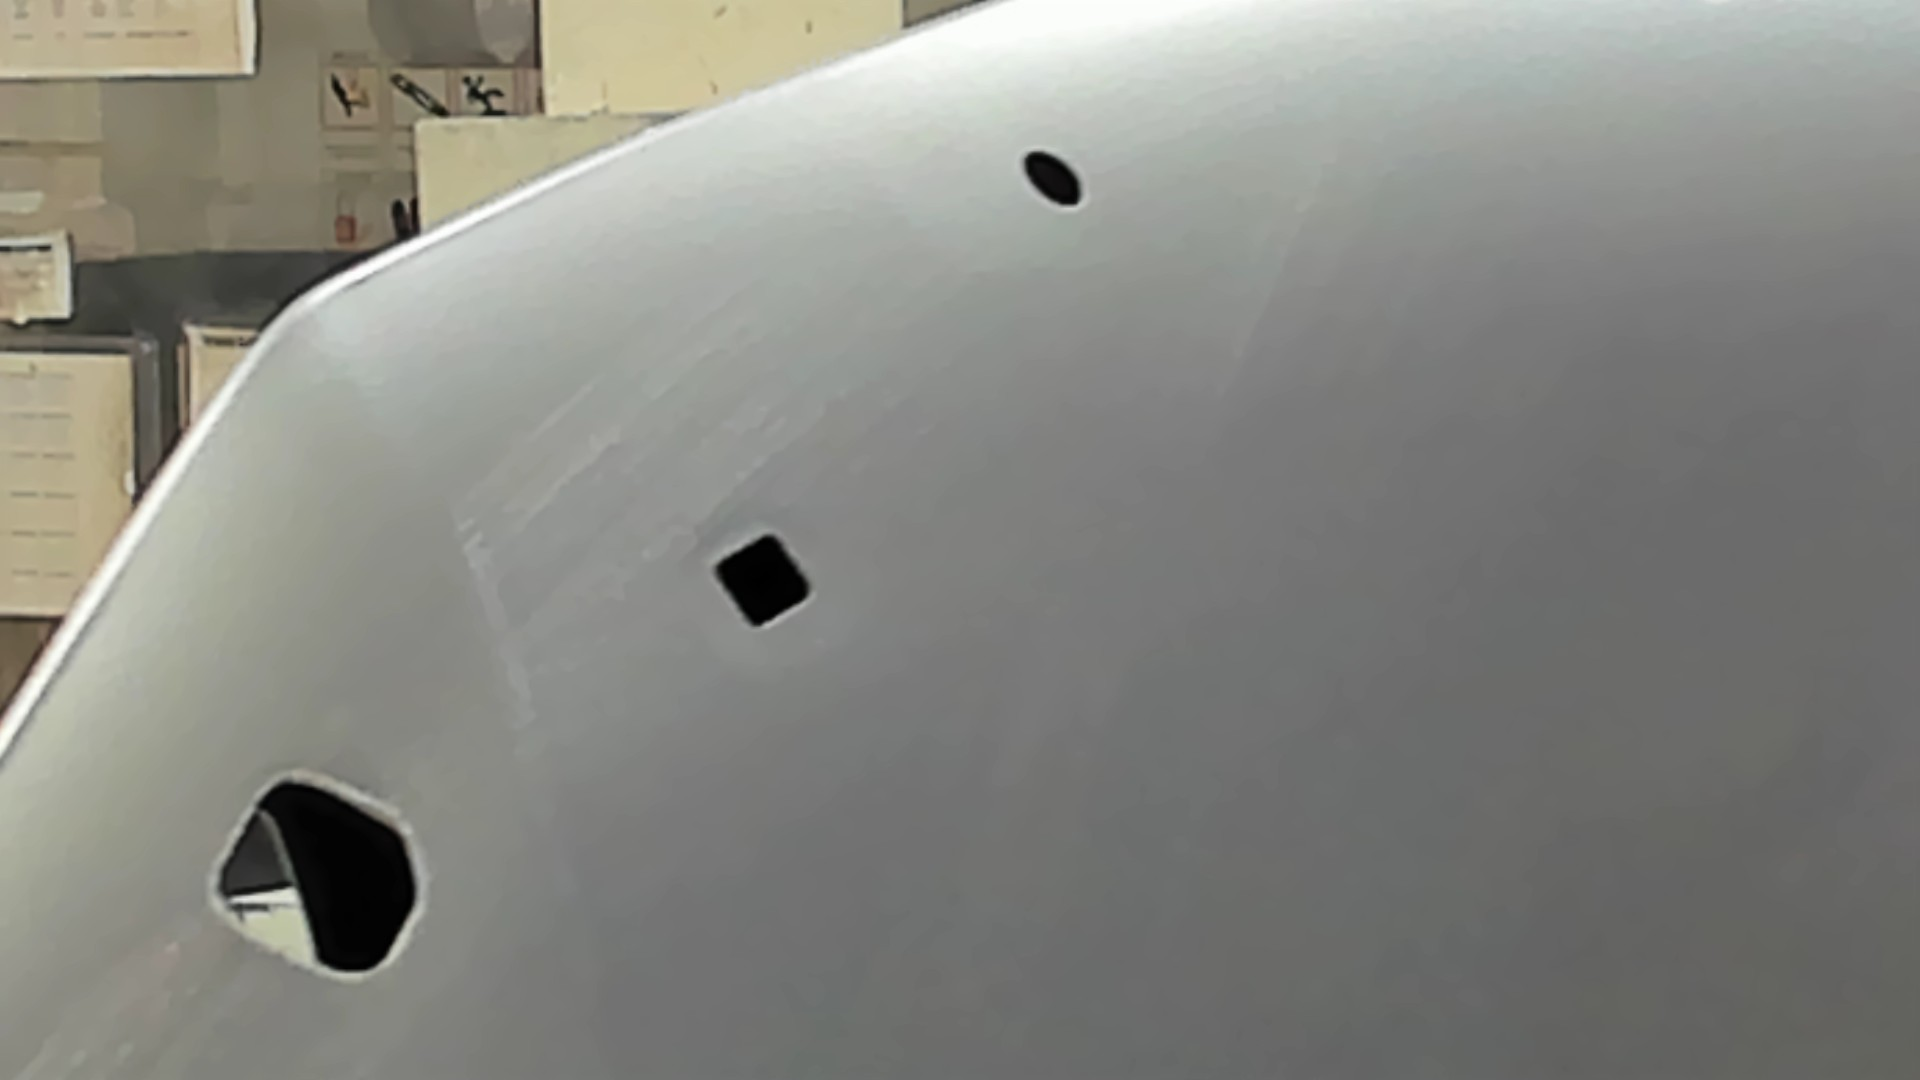chico: (1021, 146, 1087, 208)
grande: (204, 767, 429, 982)
mediano: (709, 527, 816, 632)
